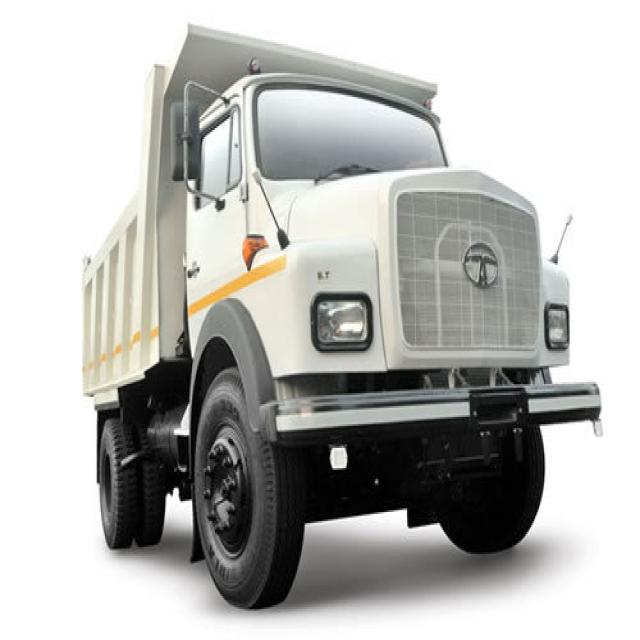dump_truck: (60, 16, 605, 624)
